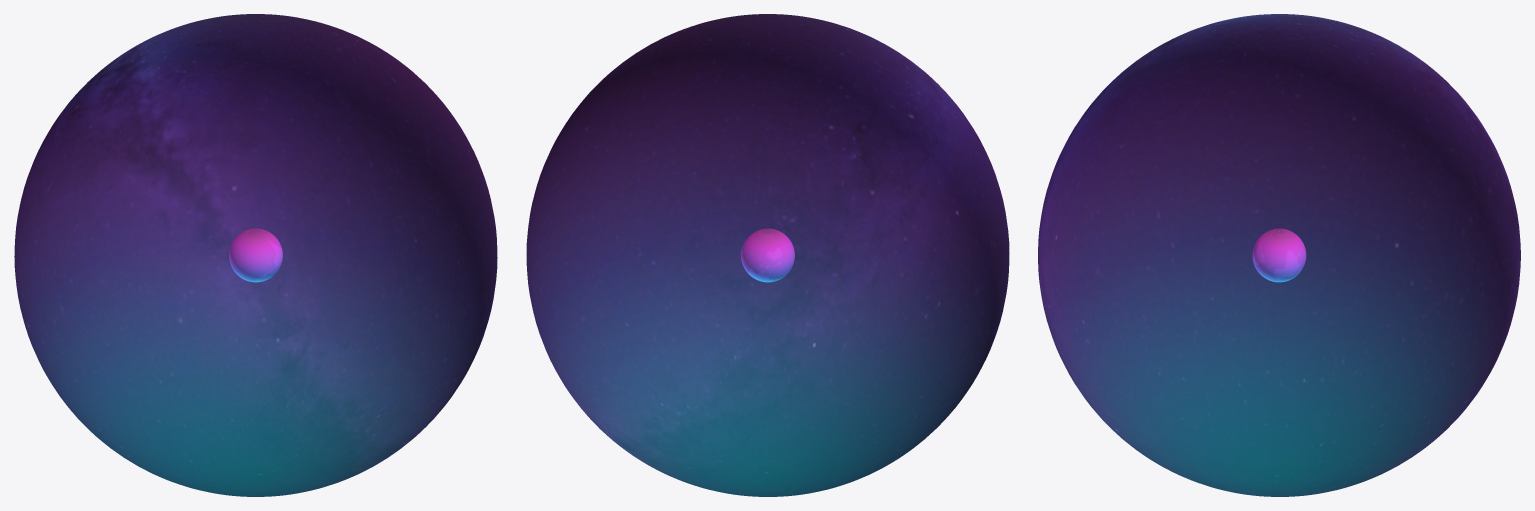
Rendered from earth4.glb.
3 renders of one model, left to right at view 1: azimuth 30°, elevation 25°; view 2: azimuth 150°, elevation 25°; view 3: azimuth 270°, elevation 25°, orthographic.
Parts seen in each view (by area): view 1: Sphere.012_11, Sphere_12, xxxx_14; view 2: Sphere.012_11, Sphere_12, xxxx_14; view 3: Sphere.012_11, Sphere_12, xxxx_14.
Boxes of the visible parts, x1=… form: Sphere.012_11: x1=14, y1=14, x2=497, y2=496; Sphere_12: x1=229, y1=228, x2=282, y2=282; xxxx_14: x1=229, y1=228, x2=282, y2=281; Sphere.012_11: x1=526, y1=14, x2=1009, y2=496; Sphere_12: x1=741, y1=228, x2=794, y2=282; xxxx_14: x1=742, y1=228, x2=794, y2=281; Sphere.012_11: x1=1038, y1=14, x2=1520, y2=496; Sphere_12: x1=1253, y1=228, x2=1305, y2=282; xxxx_14: x1=1252, y1=228, x2=1306, y2=282.
Bounding box in the file's own units: 45.06 × 45.06 × 45.05.
Materials: 24 (15 with a texture image).
